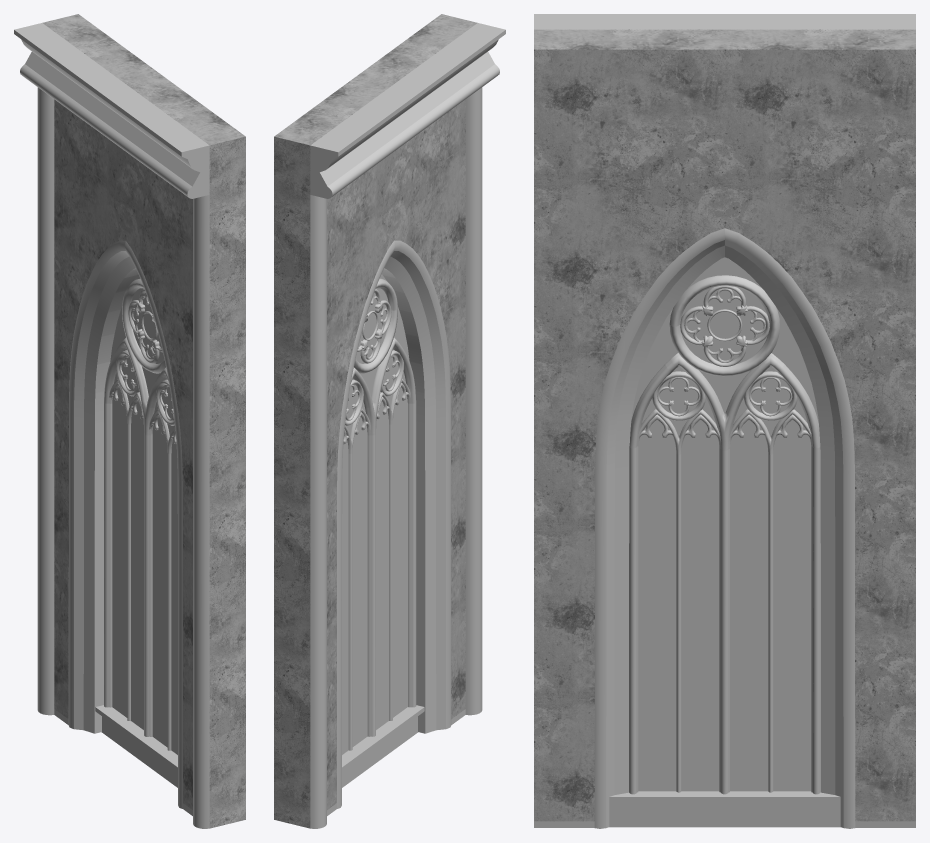
Rendered from SM_TowerWall_07a.fbx.
3 views of the same model, side by side, from view 1: azimuth 30°, elevation 25°; view 2: azimuth 150°, elevation 25°; view 3: azimuth 270°, elevation 25° (orthographic). The views are drawn at different scales.
Visible parts, largest first — view 1: SM_TowerWall_07a_LOD0; view 2: SM_TowerWall_07a_LOD0; view 3: SM_TowerWall_07a_LOD0.
Part boxes in pixels (x1,y1,x2,y2): SM_TowerWall_07a_LOD0: (14, 14, 245, 828); SM_TowerWall_07a_LOD0: (274, 14, 505, 828); SM_TowerWall_07a_LOD0: (534, 14, 915, 828).
Bounding box in the file's own units: 182 × 800 × 1801.
